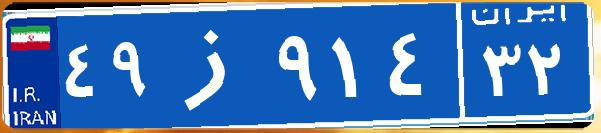1: (330, 28, 385, 110)
2: (525, 38, 570, 115)
3: (475, 38, 525, 113)
4: (385, 28, 445, 110), (57, 26, 110, 107)
9: (273, 28, 330, 110), (110, 28, 158, 105)
ز: (158, 15, 273, 115)
